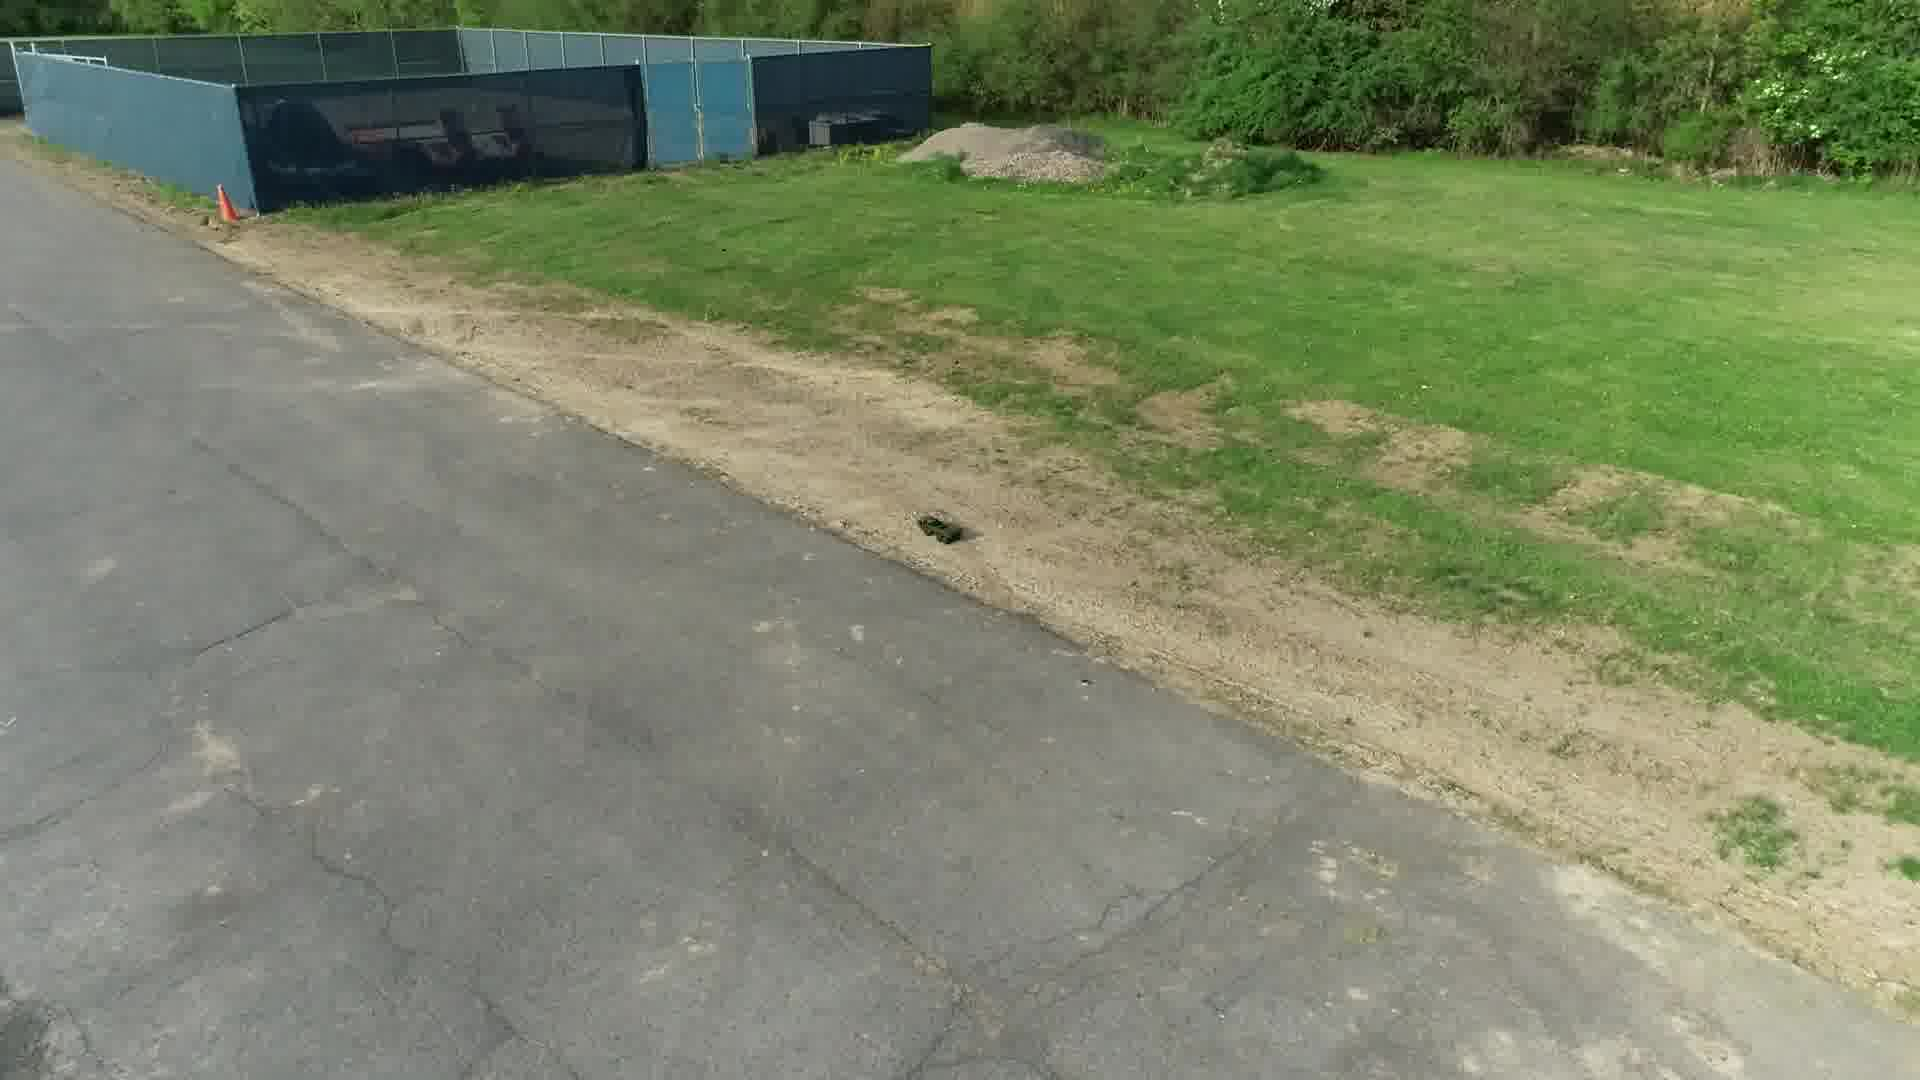transporter9: (913, 516, 971, 546)
